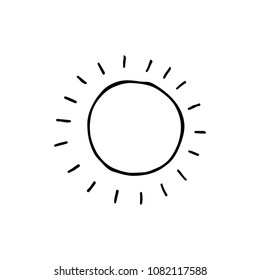sun: (47, 52, 207, 207)
